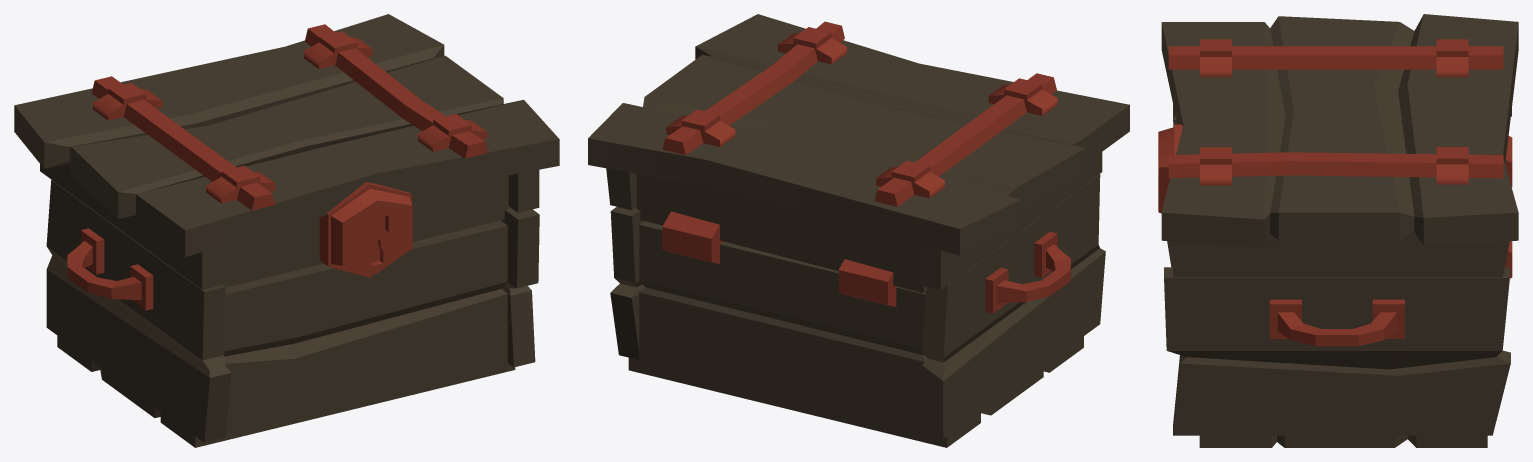
The model's file is synty-prop-chest-wood-01.gltf.
3 views of the same model, side by side, from view 1: azimuth 30°, elevation 25°; view 2: azimuth 150°, elevation 25°; view 3: azimuth 270°, elevation 25° (orthographic). The views are drawn at different scales.
Visible parts, largest first — view 1: SM_Prop_Chest_Wood_01; view 2: SM_Prop_Chest_Wood_01; view 3: SM_Prop_Chest_Wood_01.
Part boxes in pixels (left/top/right/bottom): SM_Prop_Chest_Wood_01: left=14, top=14, right=559, bottom=447; SM_Prop_Chest_Wood_01: left=588, top=14, right=1129, bottom=447; SM_Prop_Chest_Wood_01: left=1158, top=14, right=1518, bottom=447.
Bounding box in the file's own units: 1.16 × 0.6793 × 0.832.
1 material, 1 textured.
